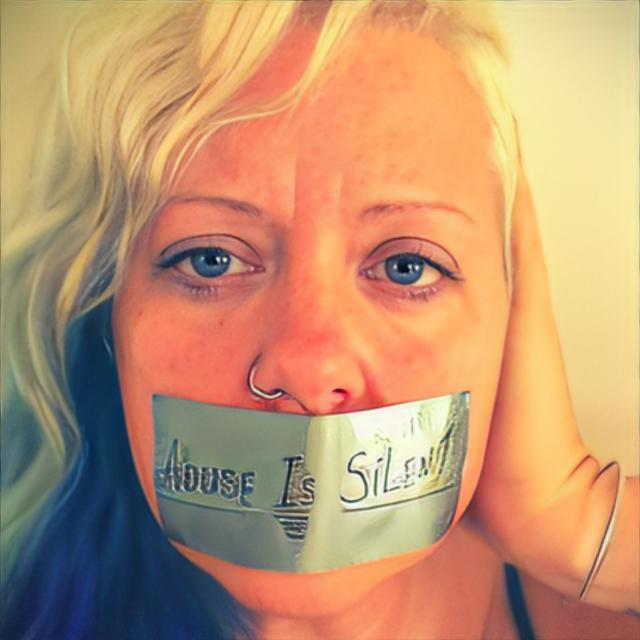sad: (110, 31, 506, 616)
